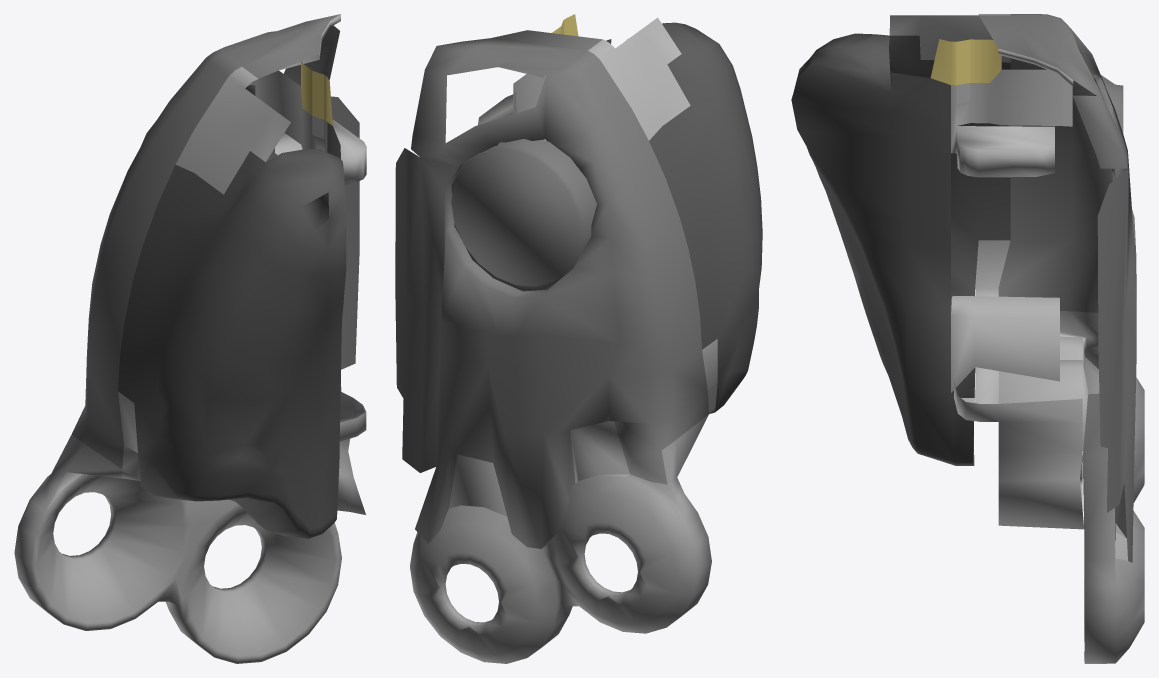
Rendered from VIS_hollie_real_020_visual.dae.
The picture shows the model from 3 angles, left to right: view 1: azimuth 30°, elevation 25°; view 2: azimuth 150°, elevation 25°; view 3: azimuth 270°, elevation 25°; orthographic projection. The views are drawn at different scales.
Parts seen in each view (by area): view 1: VIS_hollie_real_020_visual; view 2: VIS_hollie_real_020_visual; view 3: VIS_hollie_real_020_visual.
Boxes of the visible parts, x1,y1,x2,y2 form: VIS_hollie_real_020_visual: (14, 14, 366, 663); VIS_hollie_real_020_visual: (395, 14, 762, 663); VIS_hollie_real_020_visual: (791, 14, 1144, 663).
Bounding box in the file's own units: 0.048 × 0.0454 × 0.087.
